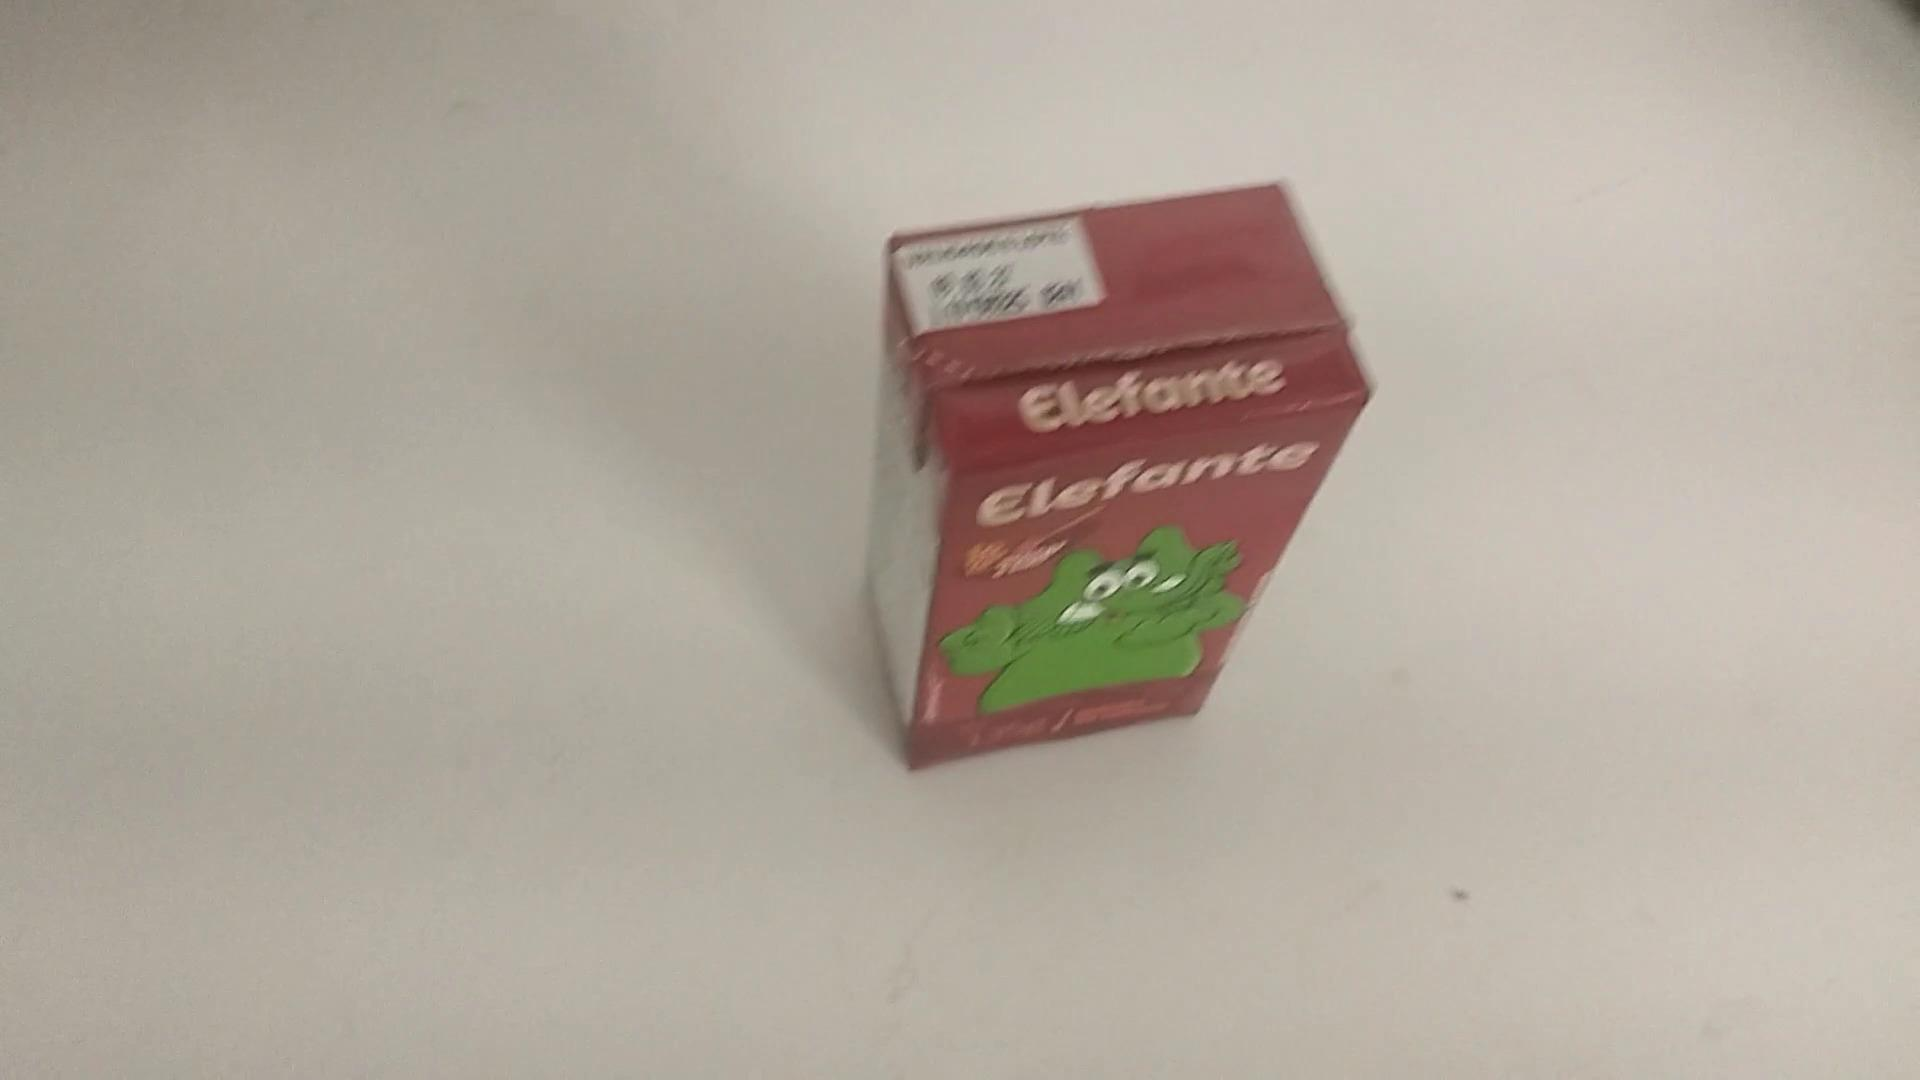tomate: (852, 181, 1374, 786)
